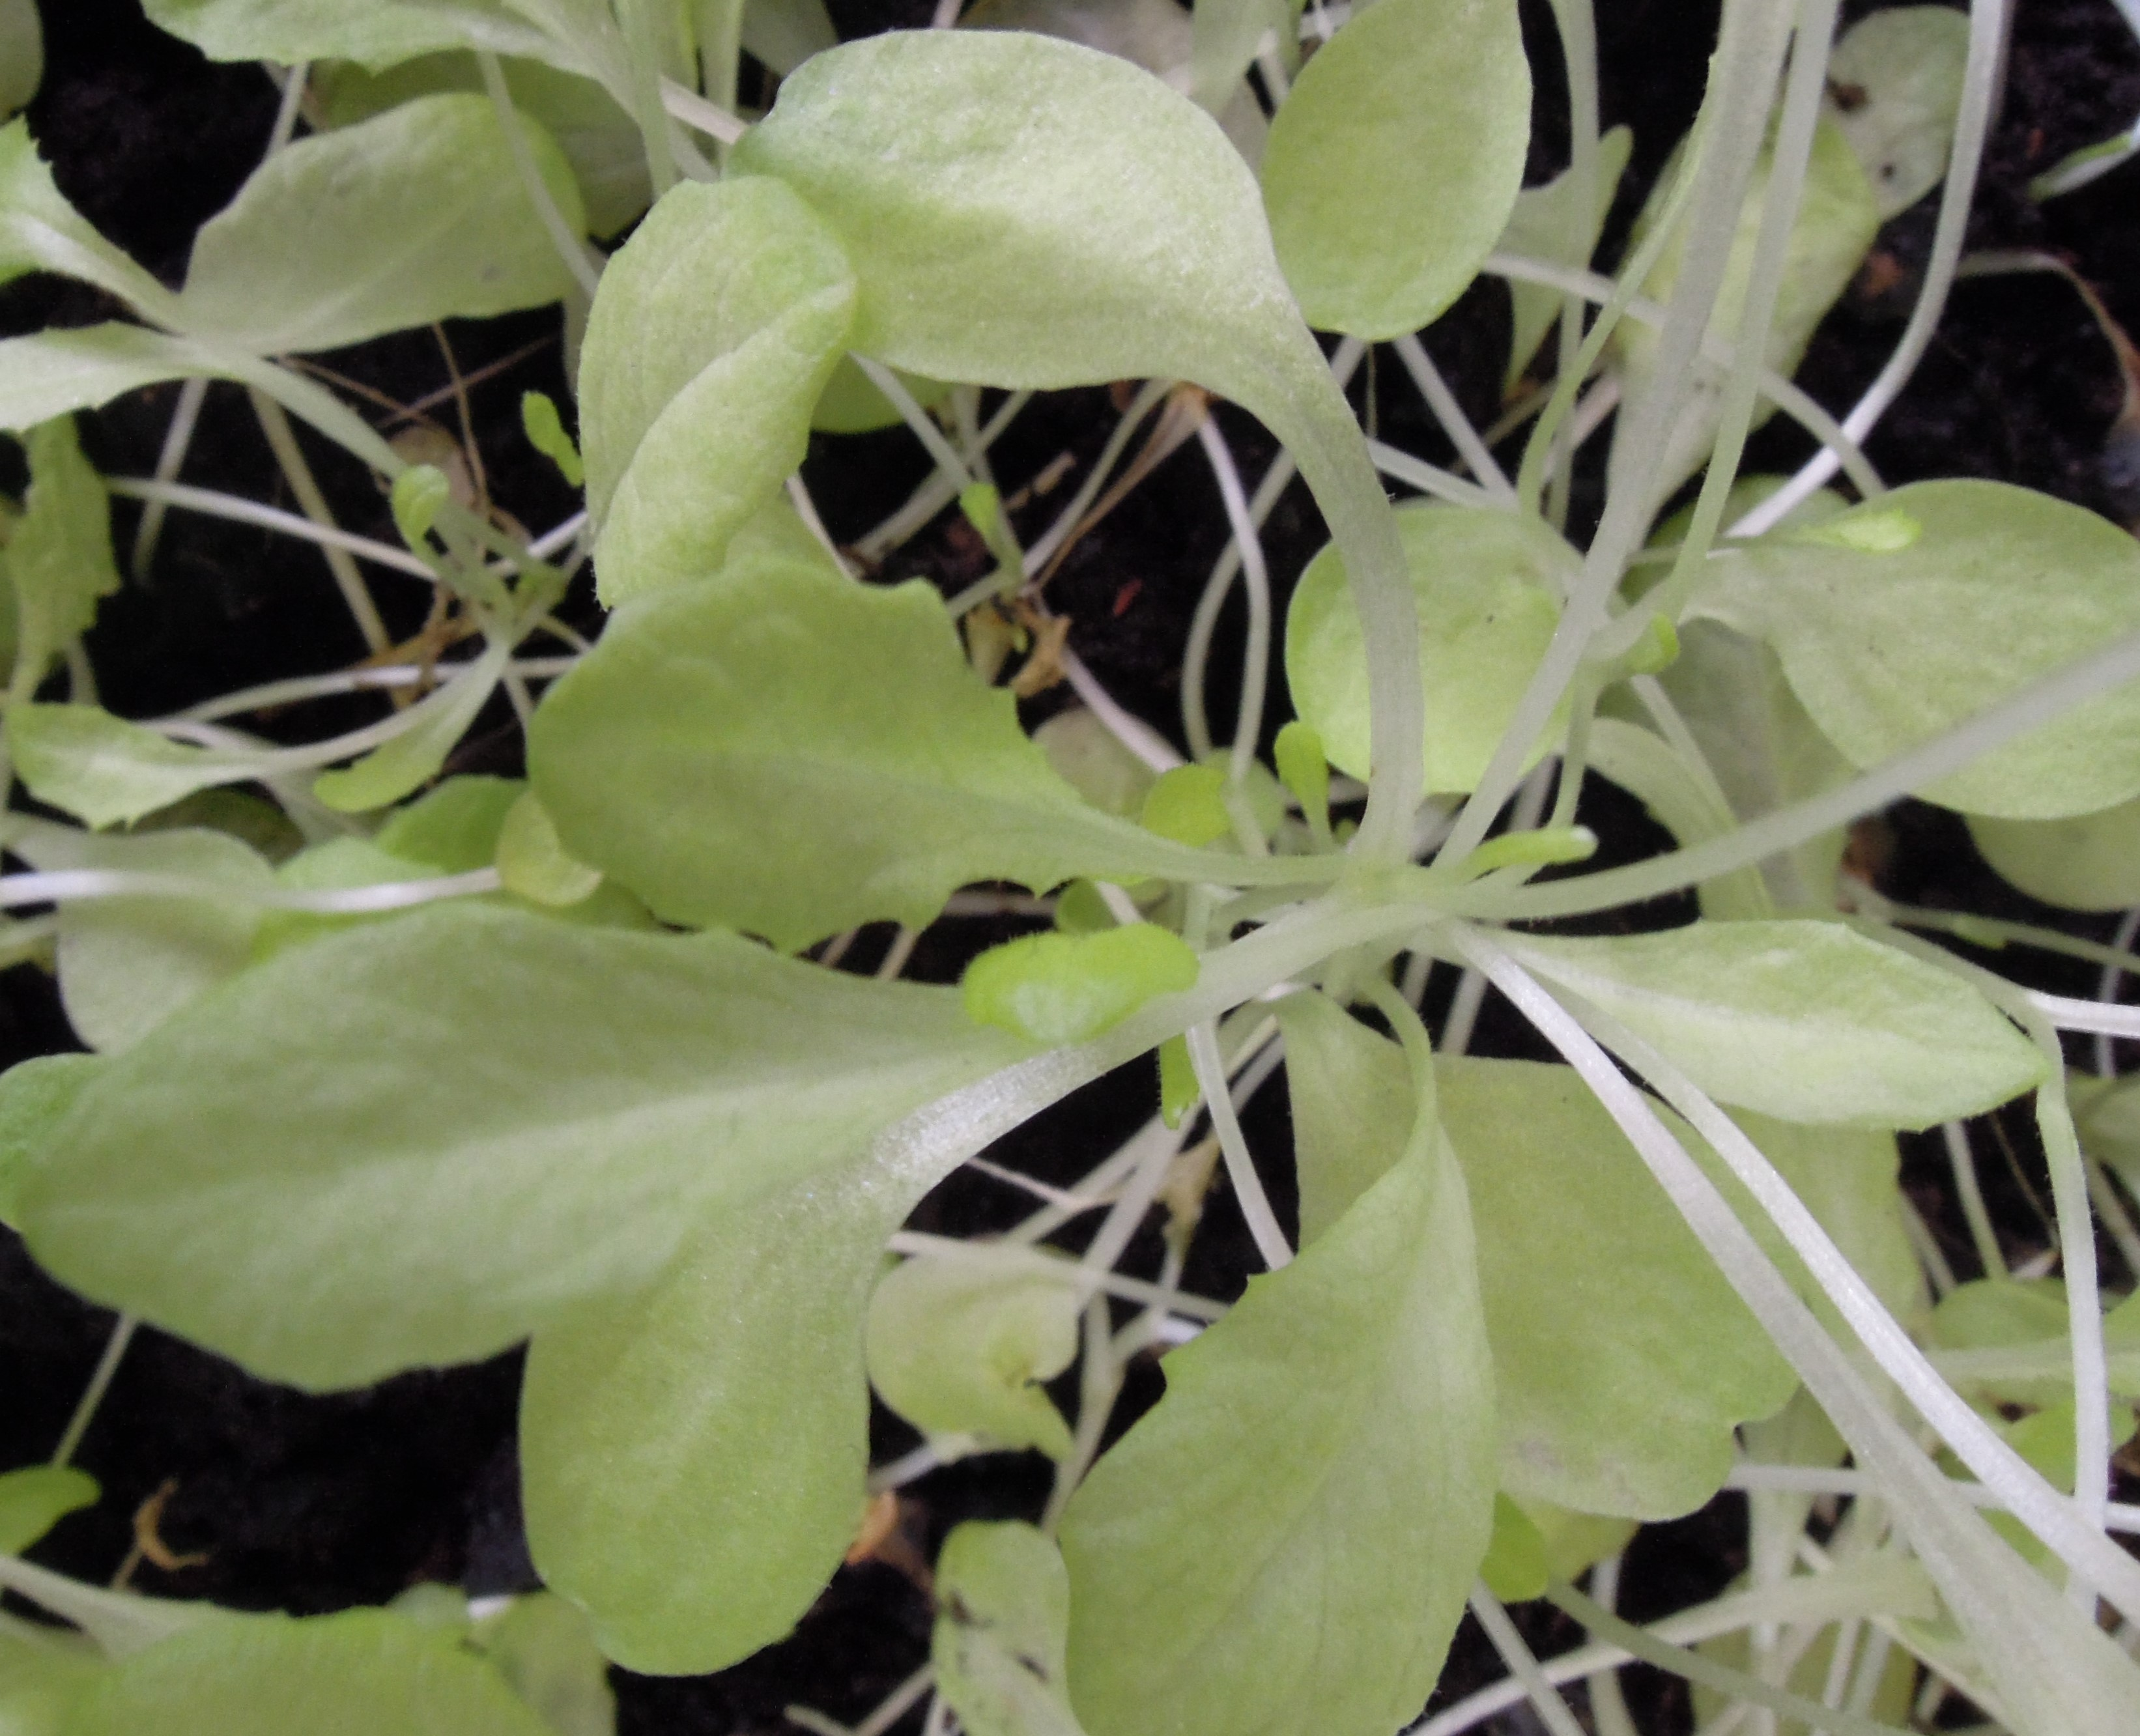weeek6: (0, 25, 2094, 1695)
